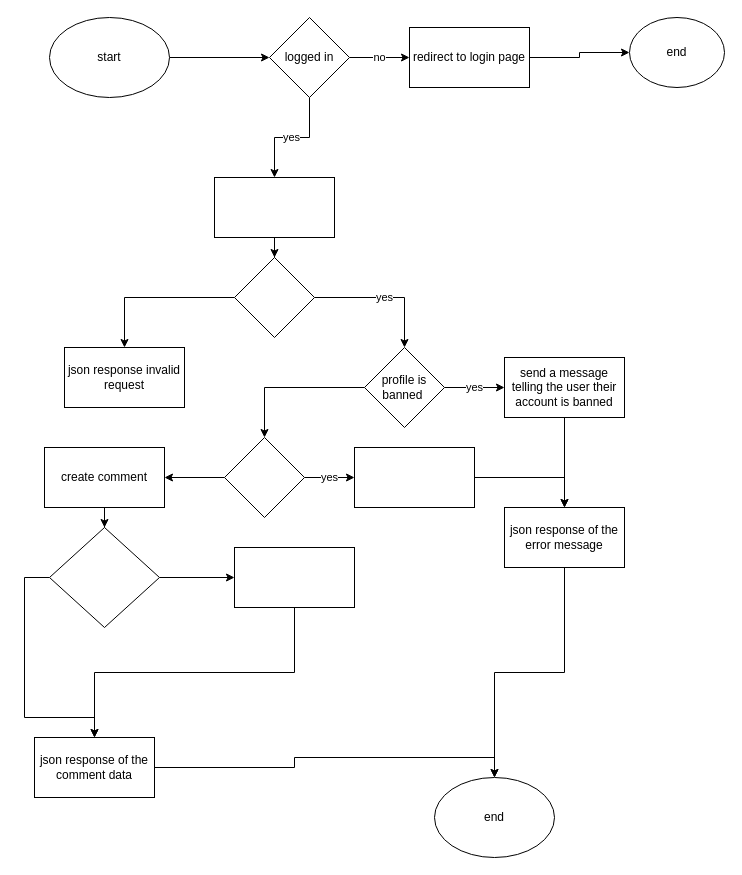
Image size: 742x875. Some labels were removed from this diagram. Each missing label, with the centre of its shape:
comment is empty: point (264, 477)
commet is not form post author: point (104, 577)
fetch request and pk: point (274, 207)
request is method: point (274, 297)
send a message telling the user their comment is empty: point (414, 477)
send notification to the author: point (294, 577)
